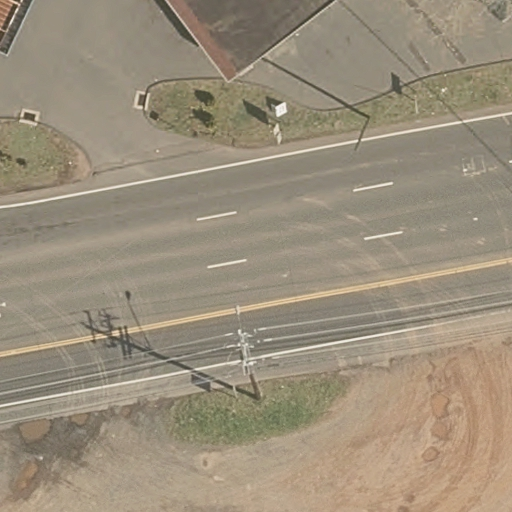DT: (215, 302, 277, 404)
